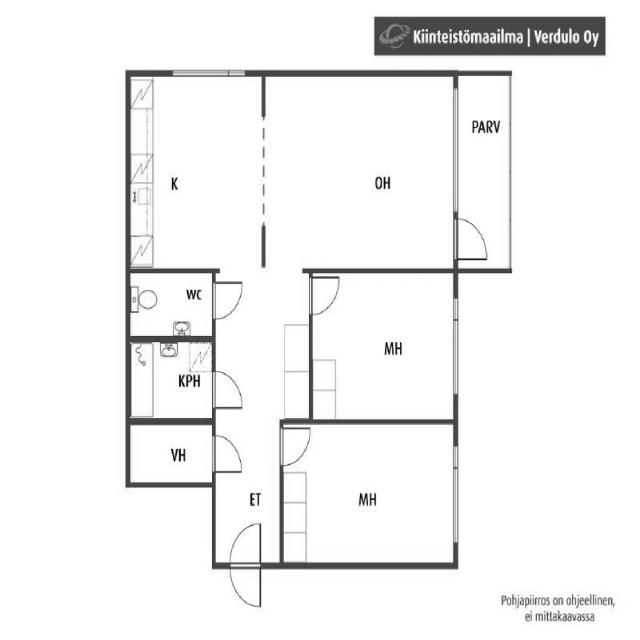door: (226, 519, 266, 615), (453, 212, 493, 262), (207, 274, 246, 324), (305, 269, 343, 317), (277, 422, 314, 468), (209, 367, 246, 411), (210, 432, 245, 478)
window: (448, 79, 464, 220), (168, 61, 253, 83), (450, 443, 462, 548), (450, 298, 461, 399), (258, 115, 268, 225)
zone: (262, 74, 460, 268), (125, 72, 265, 271), (280, 422, 459, 573), (308, 271, 458, 424), (126, 339, 215, 422), (125, 421, 216, 485), (128, 272, 215, 337)
